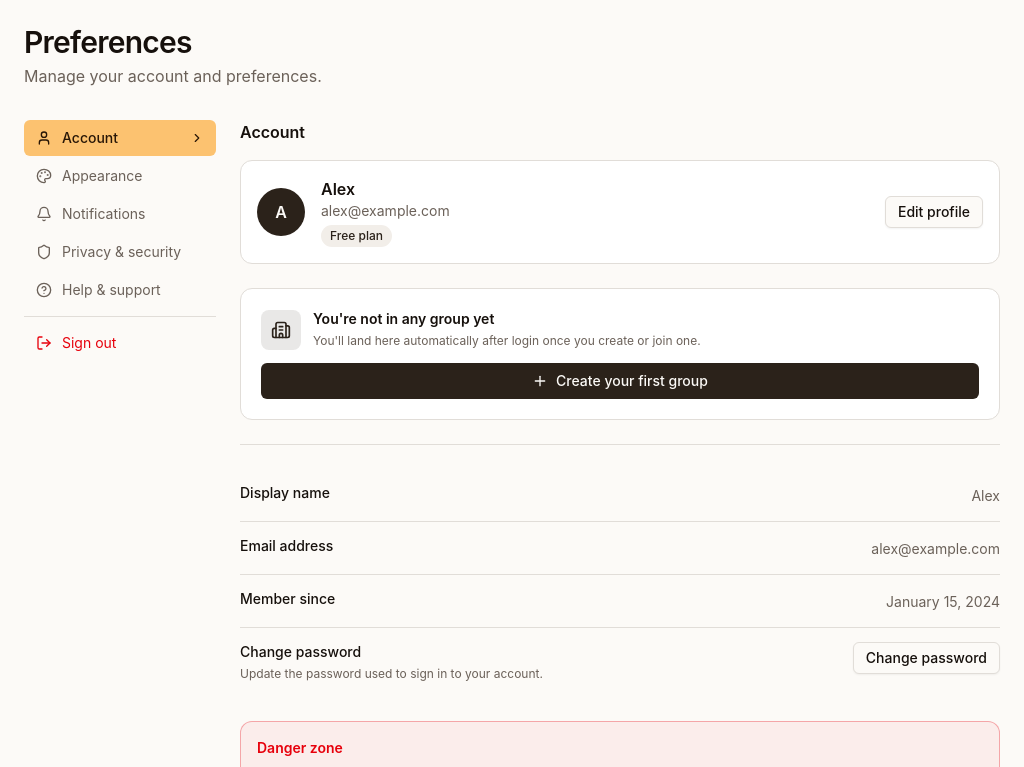
<SettingsPage /> › appearance section shows theme/density/locale controls
Click the button with test id "settings-nav-appearance": (120, 176) [24,158,216,194]
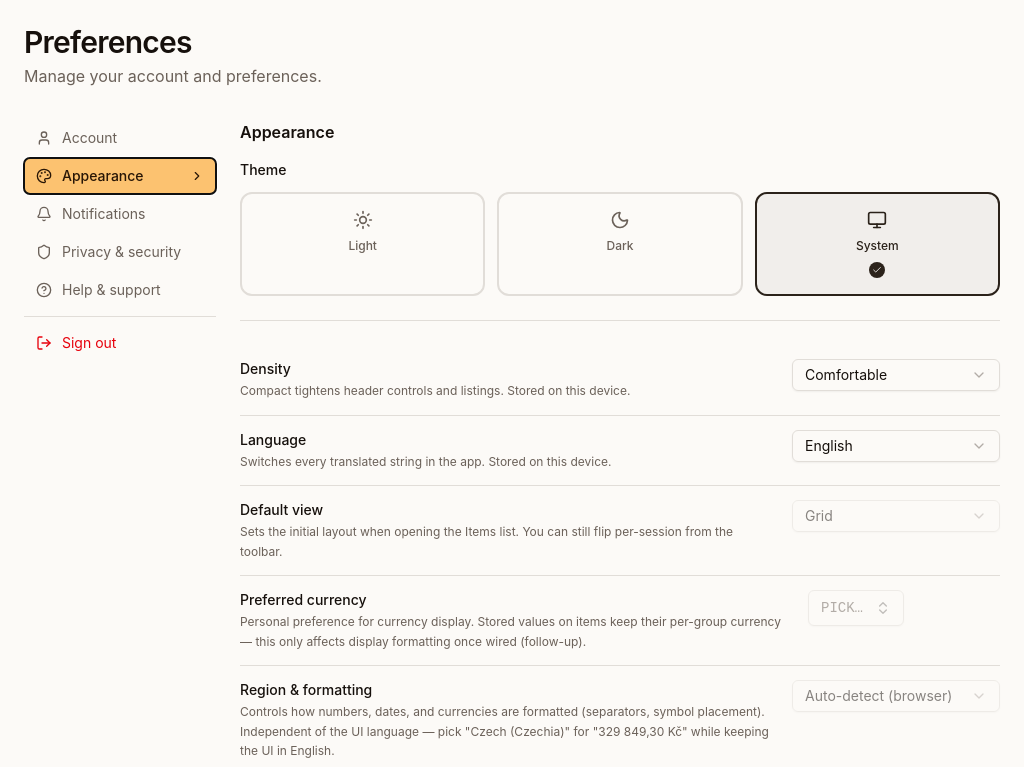
Expected: the radio button with test id "theme-system" is shown, [755,192,1000,296]
Expected: the radio button with test id "theme-light" is shown, [240,192,485,296]
Expected: the radio button with test id "theme-dark" is shown, [497,192,743,296]
